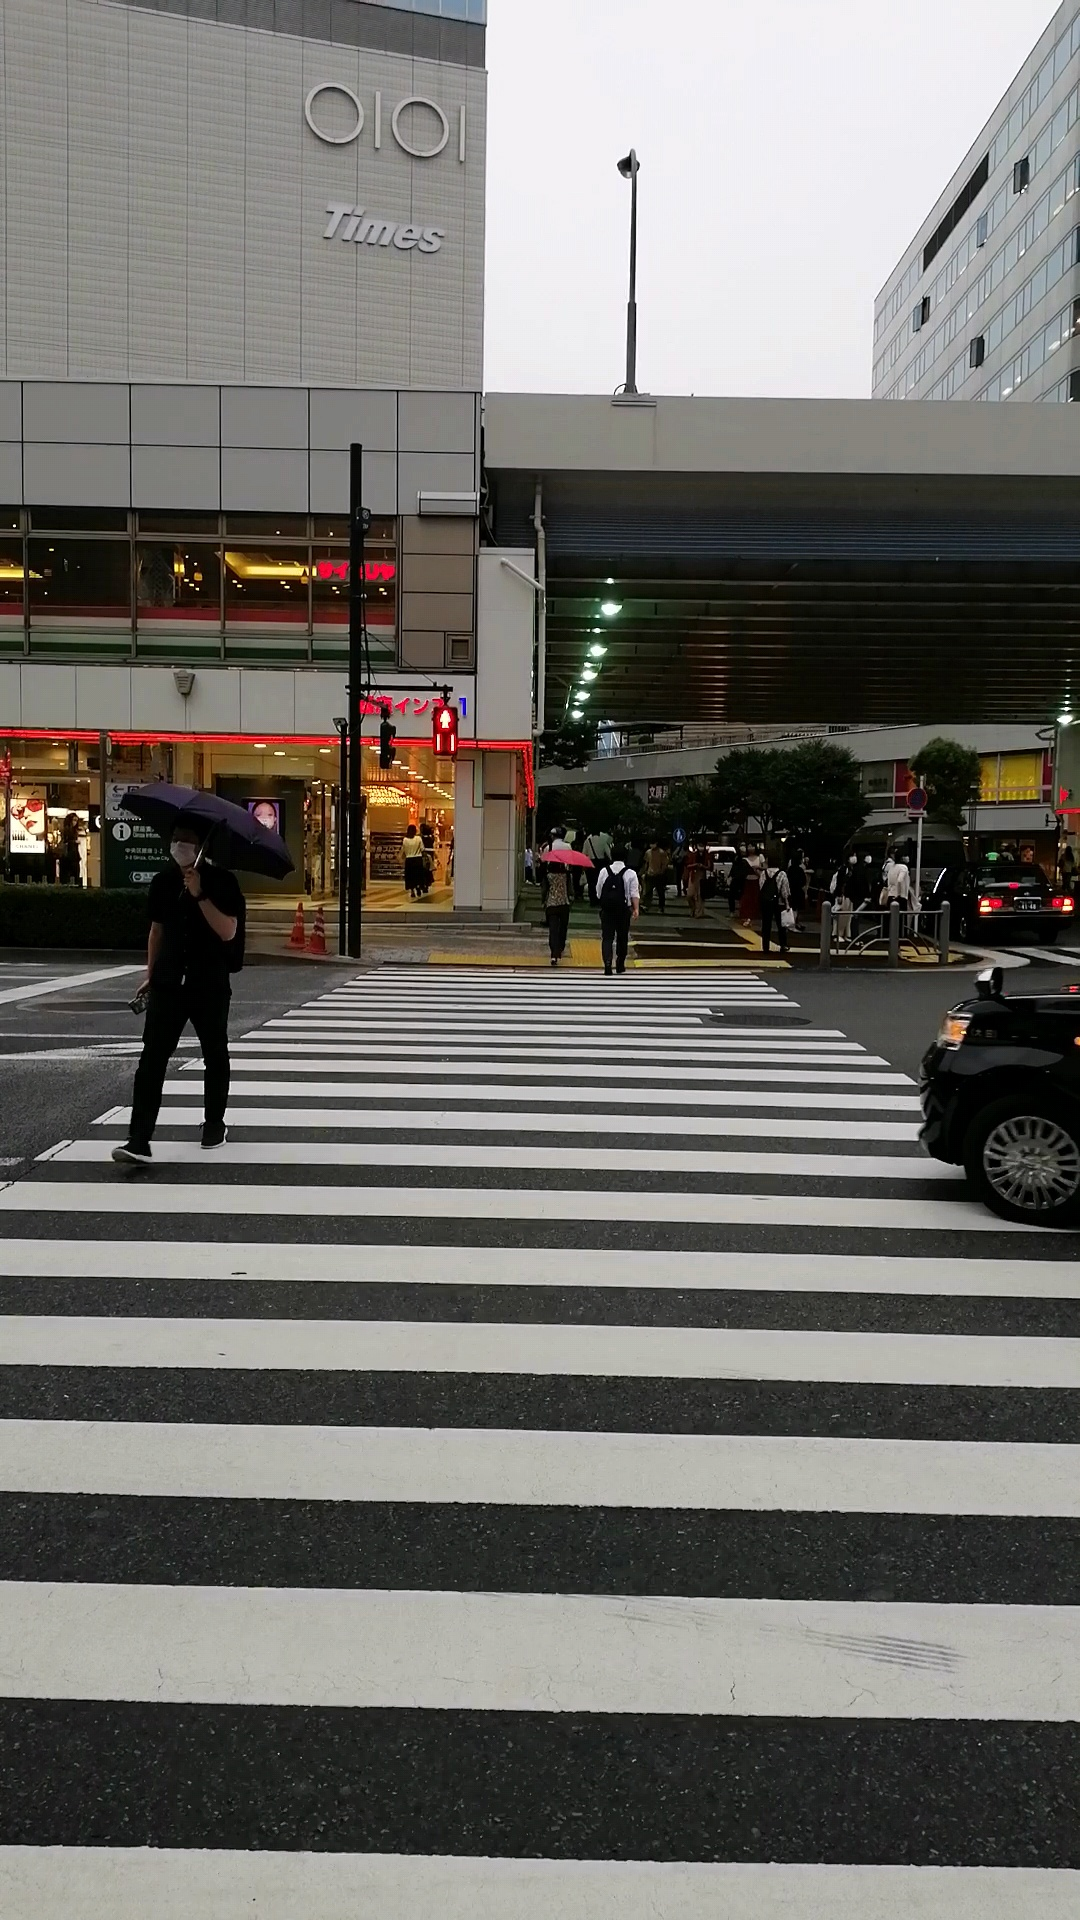red: (431, 704, 459, 757)
